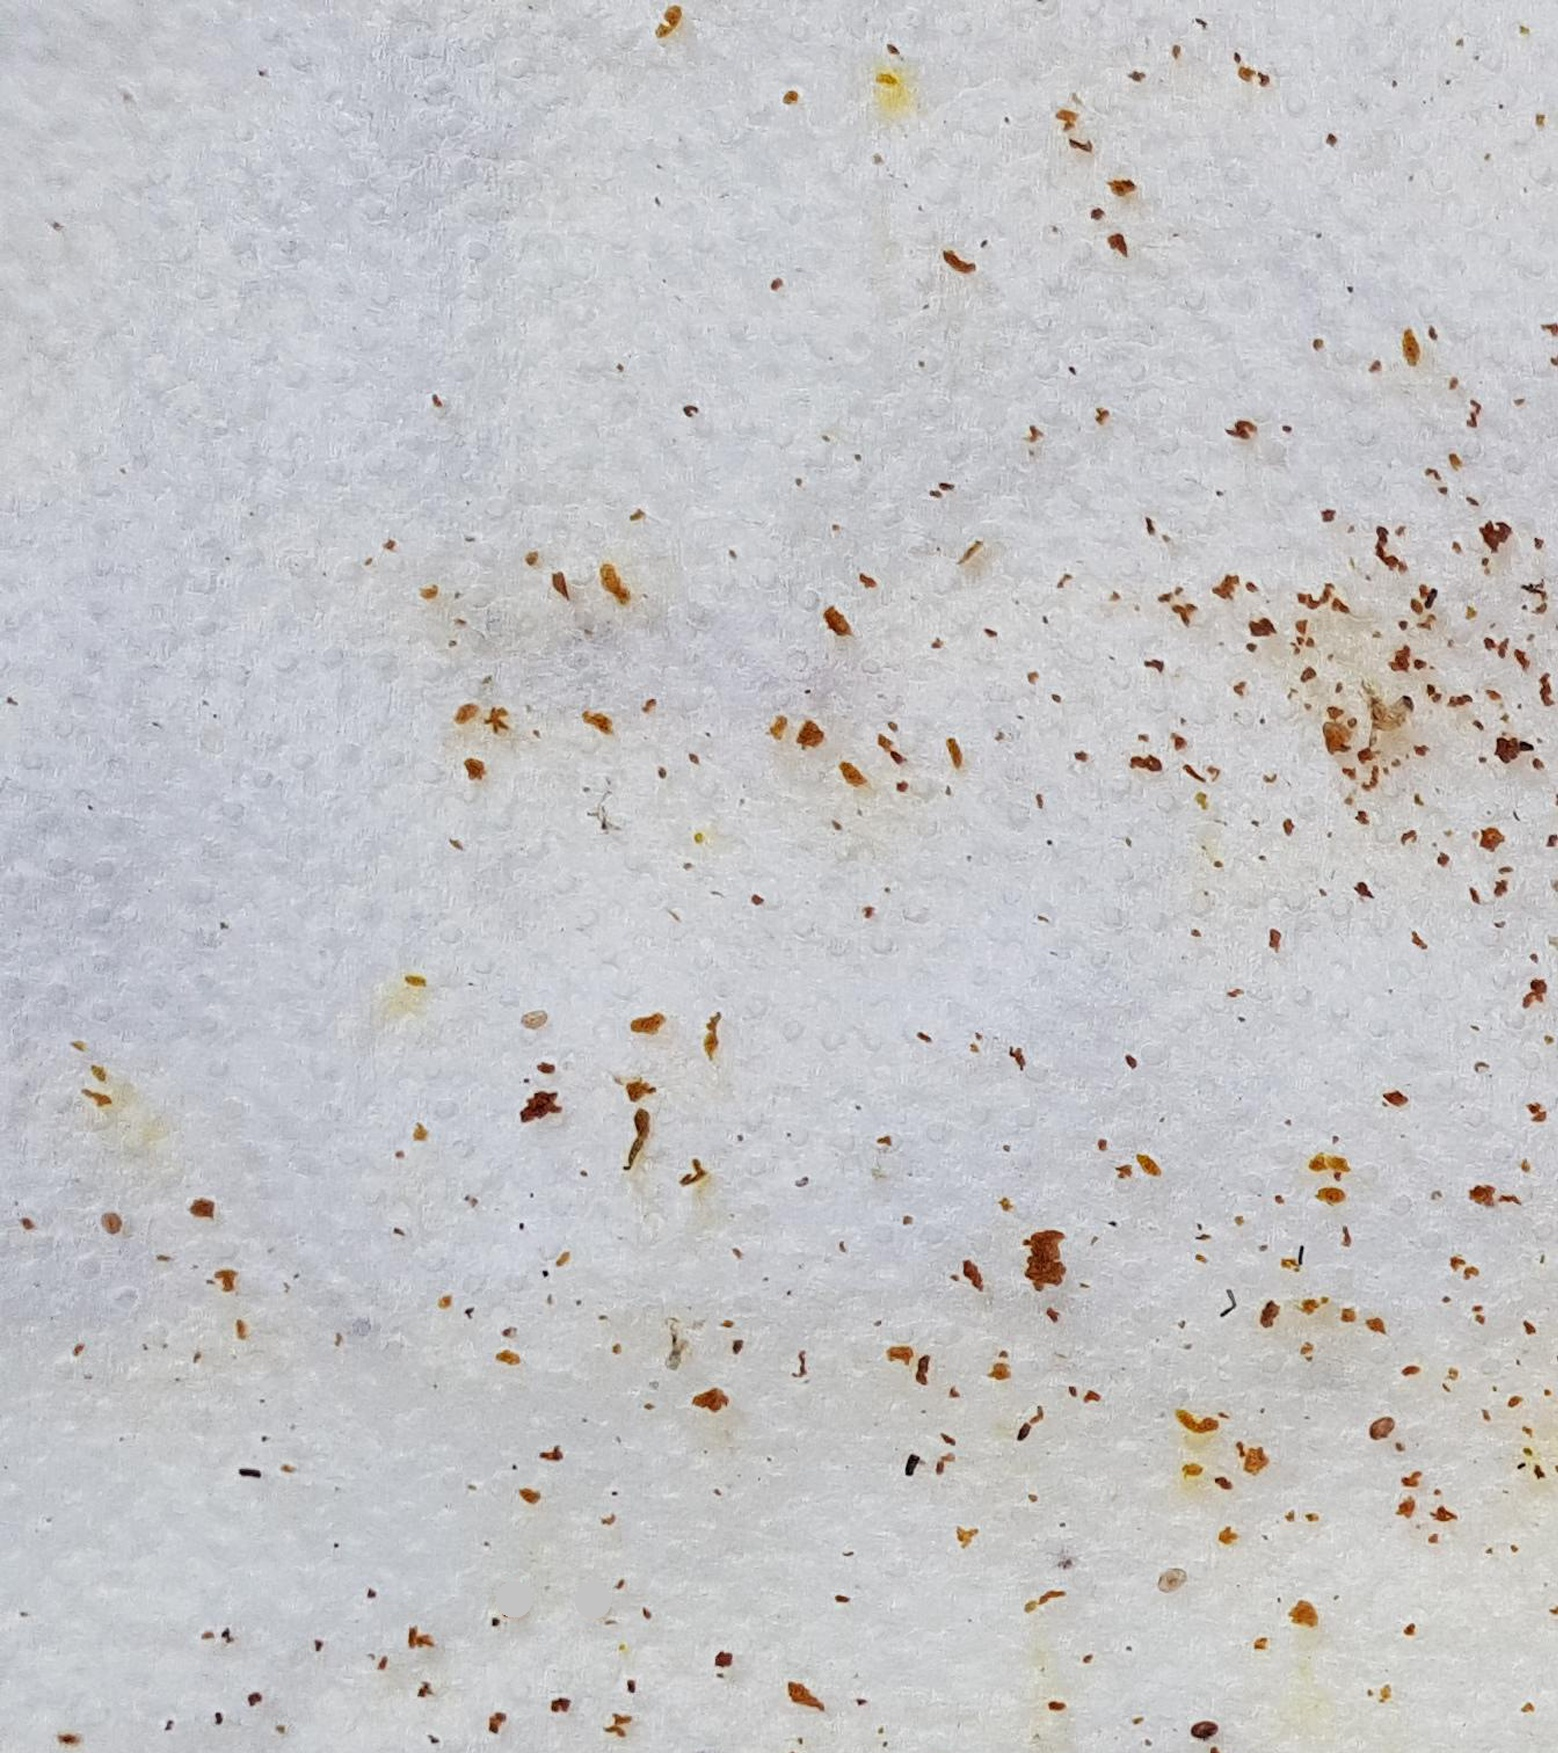Varroa: (1366, 1412, 1402, 1449)
